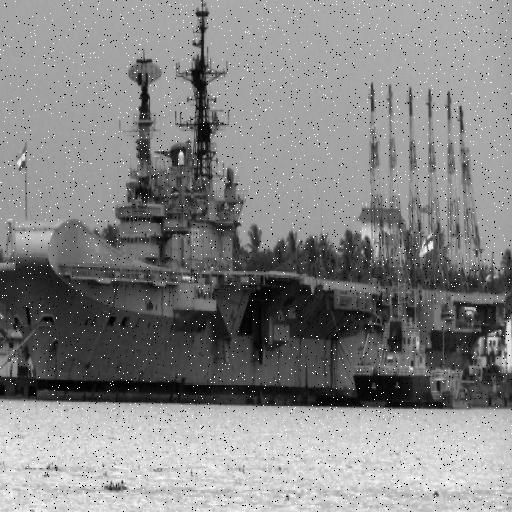Portanaves: (1, 1, 512, 403)
